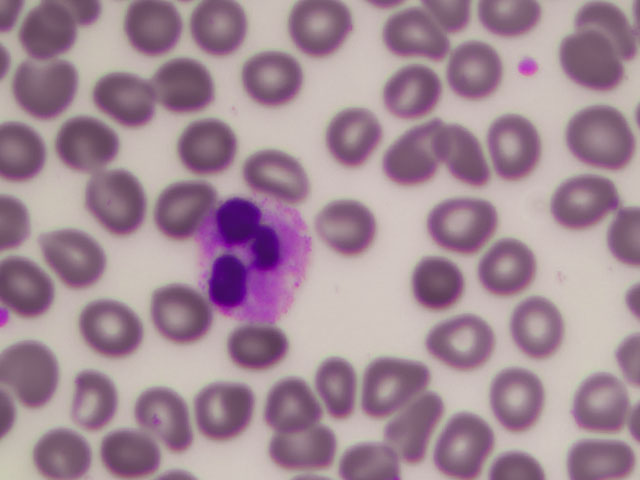Platelets: (518, 52, 542, 80)
RBC: (110, 425, 169, 480), (332, 425, 391, 480), (581, 425, 640, 480), (16, 3, 75, 57), (9, 63, 68, 117), (10, 127, 69, 181), (77, 117, 136, 171), (94, 185, 153, 239), (53, 237, 112, 291), (2, 254, 61, 308), (93, 302, 152, 356), (5, 348, 64, 402), (74, 374, 133, 428), (23, 421, 82, 475), (128, 394, 187, 448), (213, 380, 272, 434), (215, 327, 274, 381), (156, 276, 215, 330), (156, 163, 215, 217), (187, 117, 246, 171), (266, 138, 325, 192), (237, 46, 296, 100), (163, 64, 222, 118), (98, 65, 157, 119), (118, 1, 177, 55), (190, 1, 249, 55), (324, 107, 383, 161), (312, 196, 371, 250), (368, 133, 427, 187), (414, 118, 473, 172), (391, 69, 450, 123), (382, 13, 441, 67), (430, 32, 489, 86), (556, 35, 615, 89), (579, 1, 638, 55), (572, 107, 631, 161), (551, 175, 610, 229), (482, 118, 541, 172), (439, 194, 498, 248), (475, 241, 534, 295), (393, 257, 452, 311), (432, 297, 491, 351), (506, 295, 565, 349), (485, 376, 544, 430), (445, 412, 504, 466), (382, 387, 441, 441), (361, 357, 420, 411), (315, 356, 374, 410), (269, 369, 328, 423), (276, 415, 335, 469), (576, 365, 635, 419), (291, 1, 350, 54), (471, 1, 530, 54)
WBC: (191, 195, 305, 318)
